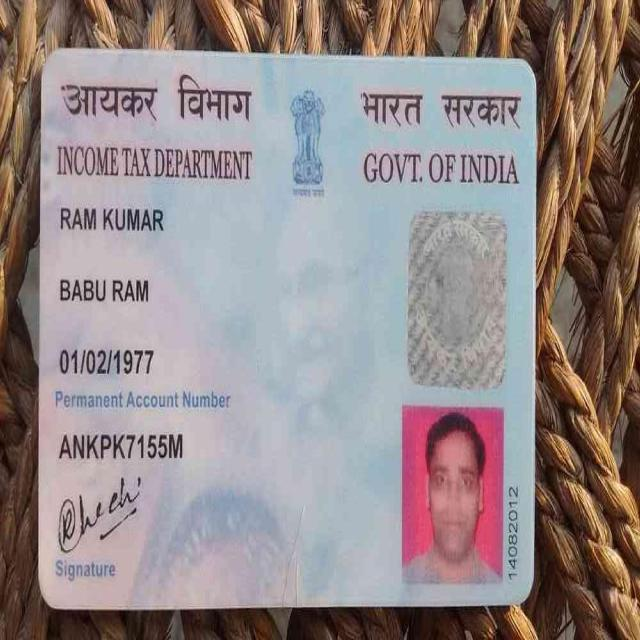pan_card: (41, 53, 531, 598)
